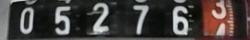digits: (171, 5, 189, 34), (91, 4, 109, 32), (132, 4, 149, 33), (54, 5, 71, 33), (19, 7, 34, 32), (212, 0, 226, 21)
